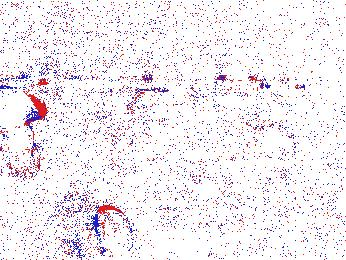flame jellyfish: (1, 84, 47, 183), (64, 205, 134, 260), (52, 197, 99, 246)
